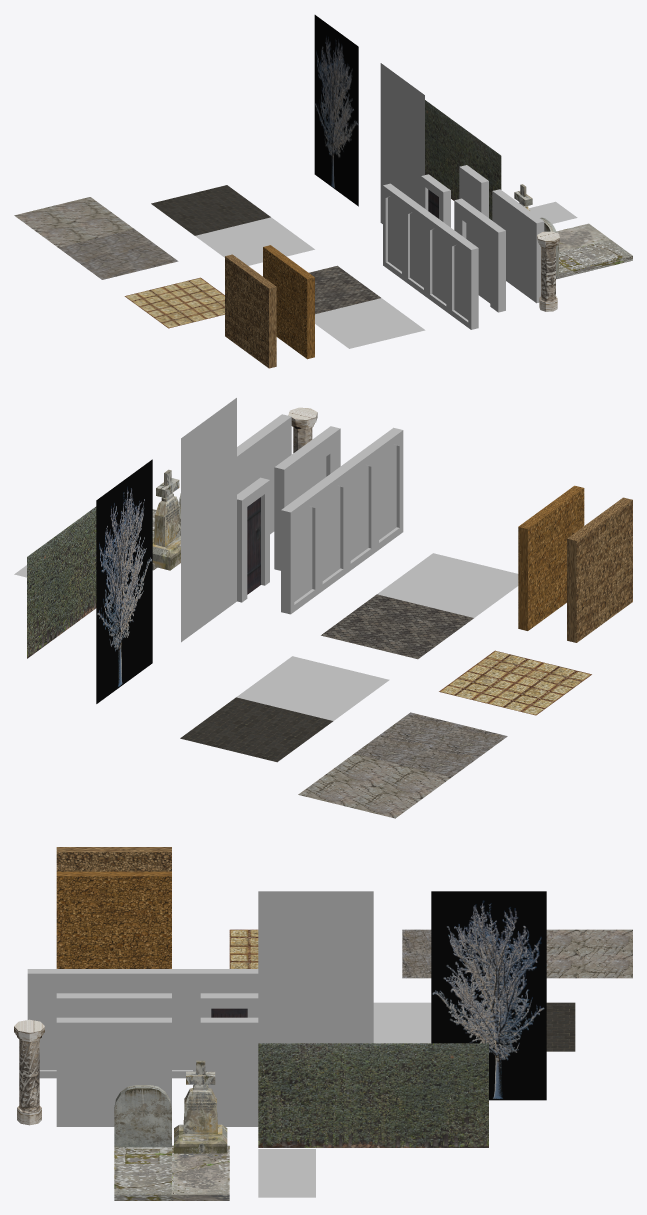
The model's file is Modular Church V1fbx.fbx.
3 views of the same model, one above another, from view 1: azimuth 30°, elevation 25°; view 2: azimuth 150°, elevation 25°; view 3: azimuth 270°, elevation 25° (orthographic). The views are drawn at different scales.
Parts seen in each view (by area): view 1: BackGround Tree.001, BackGround Tree, Crypt Wall.001, Hedge Fence, Crypt Wall, Wall, Crypt Ceiling, Crypt Ceiling .001, Church Floor.001, Church Ceiling, Crypt Floor, Church Floor (+13 smaller); view 2: BackGround Tree.001, BackGround Tree, Crypt Wall.001, Hedge Fence, Crypt Wall, Crypt Floor, Church Floor.001, Church Ceiling.001, Crypt Ceiling .001, Crypt Ceiling, Church Floor, Church Ceiling (+10 smaller); view 3: Hedge Fence, BackGround Tree.001, BackGround Tree, Crypt Wall, Wall, HalfWall, Crypt Ceiling .001, HalfWall With Glass.001, Tombstone, Tombstone.001, HalfWall With Glass.002, Ground Tomb (+12 smaller).
Boxes of the visible parts, x1,y1,x2,y2 form: BackGround Tree.001: [314, 15, 358, 206]; BackGround Tree: [380, 63, 424, 223]; Crypt Wall.001: [225, 254, 276, 368]; Hedge Fence: [425, 100, 501, 220]; Crypt Wall: [263, 245, 314, 359]; Wall: [492, 189, 544, 303]; Crypt Ceiling: [58, 229, 178, 279]; Crypt Ceiling .001: [14, 197, 133, 247]; Church Floor.001: [151, 185, 270, 235]; Church Ceiling: [315, 298, 425, 348]; Crypt Floor: [124, 277, 224, 328]; Church Floor: [195, 217, 314, 265]; BackGround Tree.001: [96, 459, 152, 703]; BackGround Tree: [181, 398, 236, 642]; Crypt Wall.001: [567, 497, 632, 642]; Hedge Fence: [27, 506, 96, 658]; Crypt Wall: [518, 485, 584, 630]; Crypt Floor: [439, 650, 591, 715]; Church Floor.001: [180, 697, 333, 762]; Church Ceiling.001: [321, 594, 473, 659]; Crypt Ceiling .001: [298, 753, 451, 818]; Crypt Ceiling: [354, 712, 507, 777]; Church Floor: [236, 656, 389, 720]; Church Ceiling: [377, 553, 518, 617]; Hedge Fence: [258, 1043, 488, 1147]; BackGround Tree.001: [431, 891, 546, 1100]; BackGround Tree: [258, 891, 373, 1043]; Crypt Wall: [56, 871, 171, 968]; Wall: [56, 1017, 171, 1126]; HalfWall: [200, 1017, 258, 1126]; Crypt Ceiling .001: [546, 929, 632, 978]; HalfWall With Glass.001: [143, 969, 200, 1078]; Tombstone: [114, 1085, 171, 1147]; Tombstone.001: [174, 1060, 227, 1153]; HalfWall With Glass.002: [27, 969, 85, 1078]; Ground Tomb: [114, 1147, 171, 1200].
Size of the model in its own units: 1100 by 406 by 1074.
